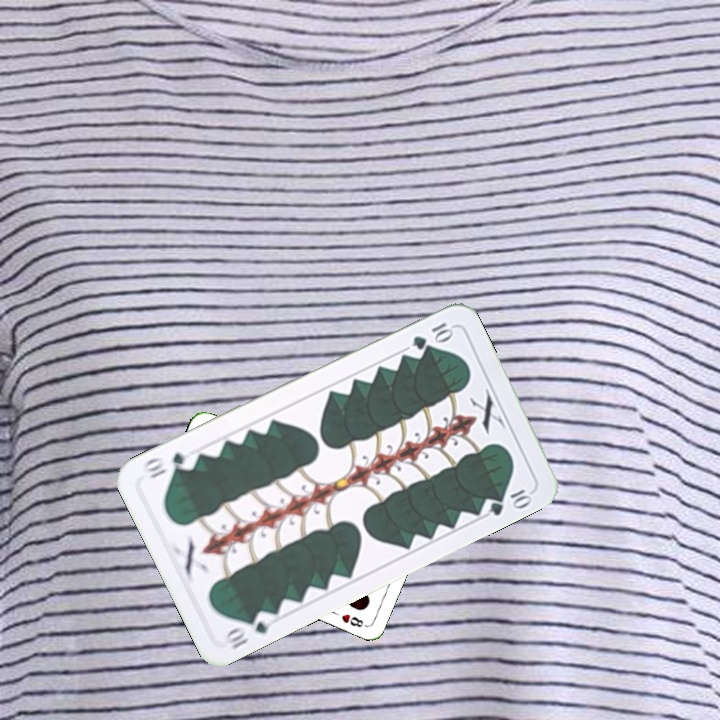G10: (220, 607, 278, 653), (408, 318, 456, 353)
